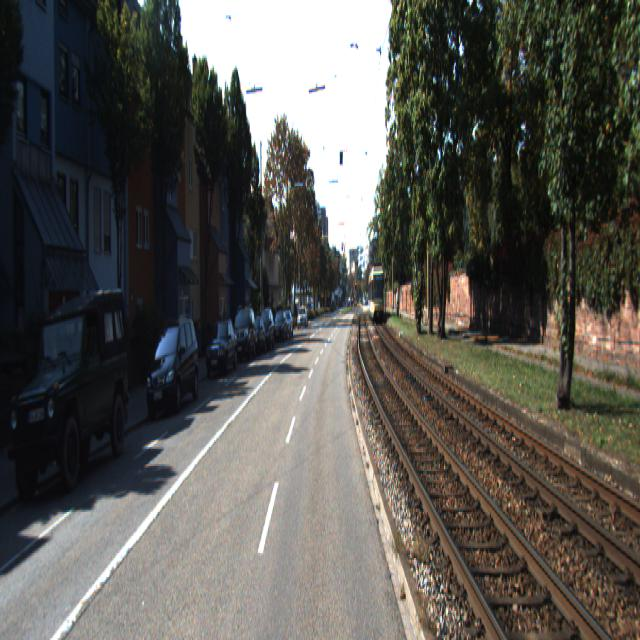Car: (9, 278, 132, 504), (144, 314, 200, 422), (204, 315, 238, 378), (231, 302, 256, 362), (368, 266, 385, 324), (247, 316, 266, 360)
